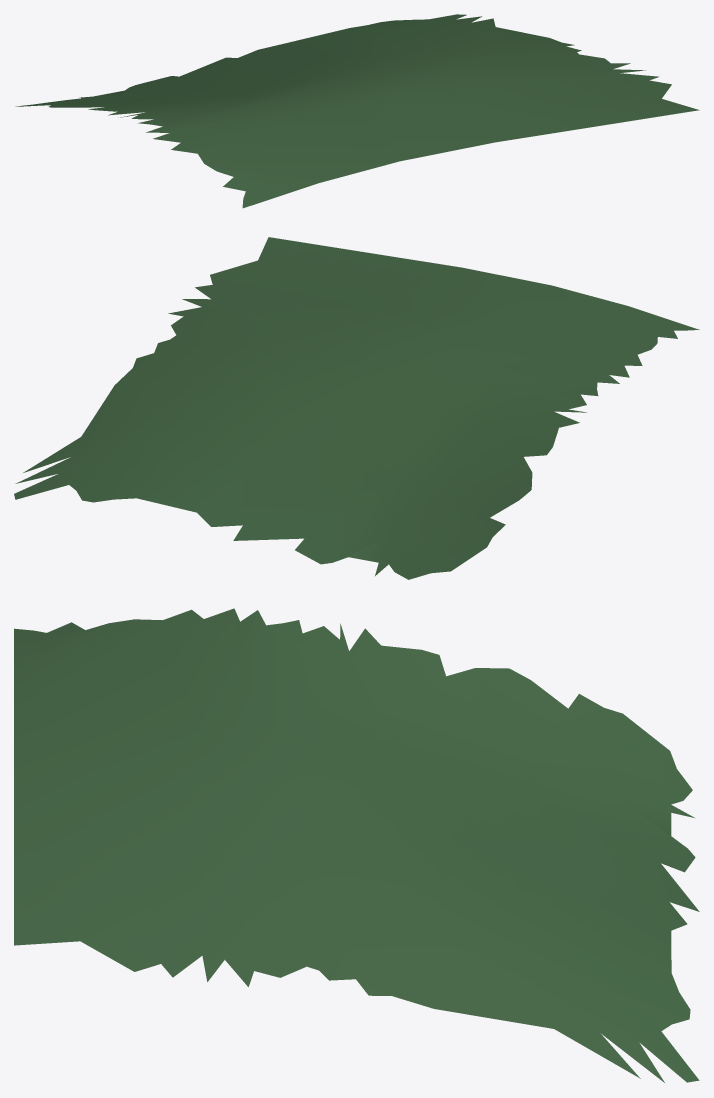
The model's file is payo_land_xm4_y10_lod2.glb.
The picture shows the model from 3 angles, top to bottom: view 1: azimuth 30°, elevation 25°; view 2: azimuth 150°, elevation 25°; view 3: azimuth 270°, elevation 25°; orthographic projection. The views are drawn at different scales.
Visible parts, largest first — view 1: payo_land_xm4_y10; view 2: payo_land_xm4_y10; view 3: payo_land_xm4_y10.
Part boxes in pixels (x1,y1,x2,y2): payo_land_xm4_y10: (15, 14, 699, 208); payo_land_xm4_y10: (14, 237, 699, 579); payo_land_xm4_y10: (14, 608, 699, 1082).
Size of the model in its own units: 277 by 64.13 by 249.
